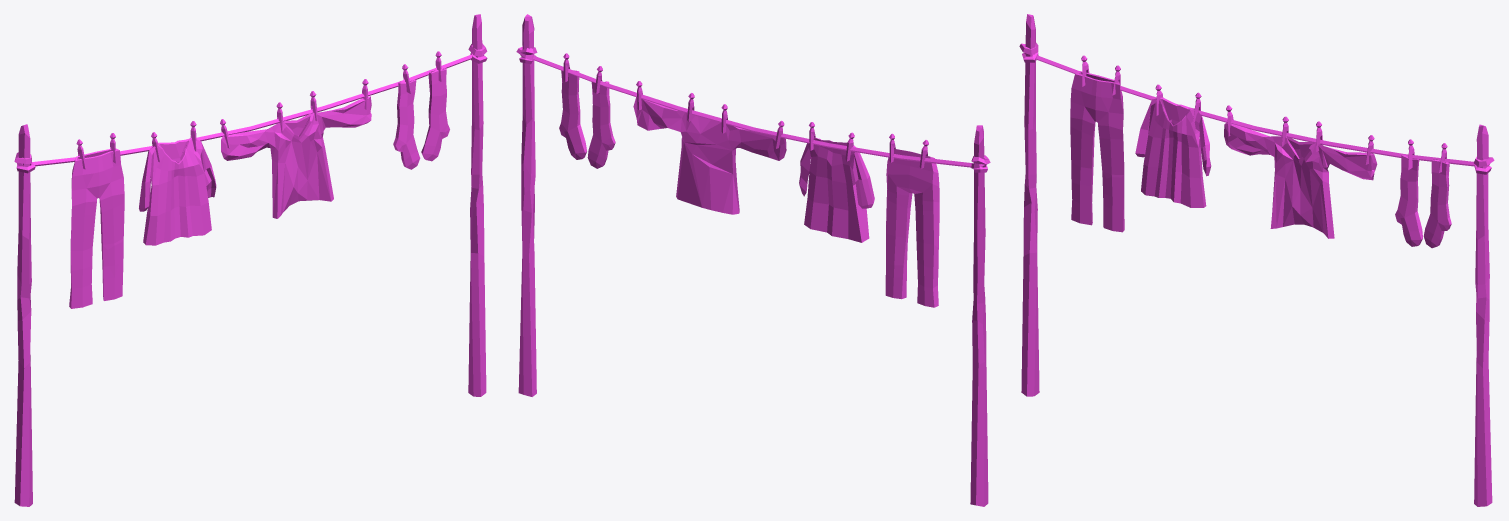
File: SM_Clothesline_Poles_3m_Clothes_Fantasy.fbx
The picture shows the model from 3 angles, left to right: view 1: azimuth 30°, elevation 25°; view 2: azimuth 150°, elevation 25°; view 3: azimuth 330°, elevation 25°; orthographic projection.
Visible parts, largest first — view 1: SM_Clothesline_Poles_3m_Clothes_Fantasy; view 2: SM_Clothesline_Poles_3m_Clothes_Fantasy; view 3: SM_Clothesline_Poles_3m_Clothes_Fantasy.
Boxes of the visible parts, x1,y1,x2,y2 form: SM_Clothesline_Poles_3m_Clothes_Fantasy: (14, 14, 487, 506); SM_Clothesline_Poles_3m_Clothes_Fantasy: (516, 14, 990, 506); SM_Clothesline_Poles_3m_Clothes_Fantasy: (1019, 14, 1494, 506).
Bounding box in the file's own units: 3.18 × 2.45 × 0.1706.
